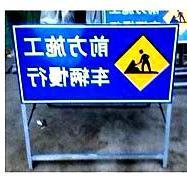sign: (14, 24, 178, 103)
